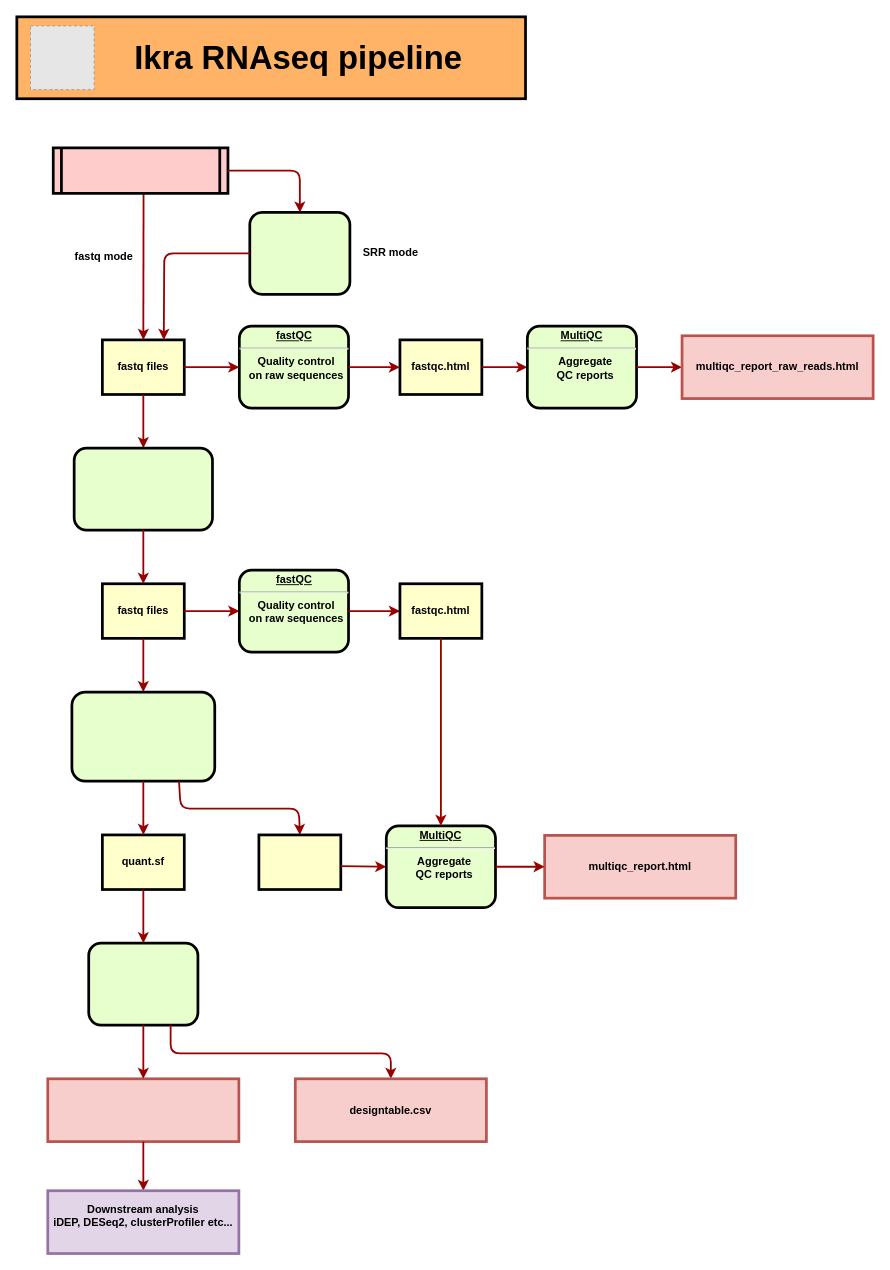
Image size: 890x1270. Some labels were removed from this diagram. Grey dashed boxes stand in for pictures. The shapes that lost their labels are listed below. From the top down, each one's centre as x and y in pixels, then its label:
At point (140, 170): "Experimental matrix".
At point (299, 253): "fasterq-dmup Download fastq files from SRR id".
At point (142, 488): "Trim Galore! Automated quality and adaptor trimming".
At point (143, 736): "salmon Wicked-fast Transcript quantification".
At point (299, 861): "salmon log".
At point (143, 983): "tximport Aggregate salmon outputs".
At point (143, 1110): "output.tsv".
